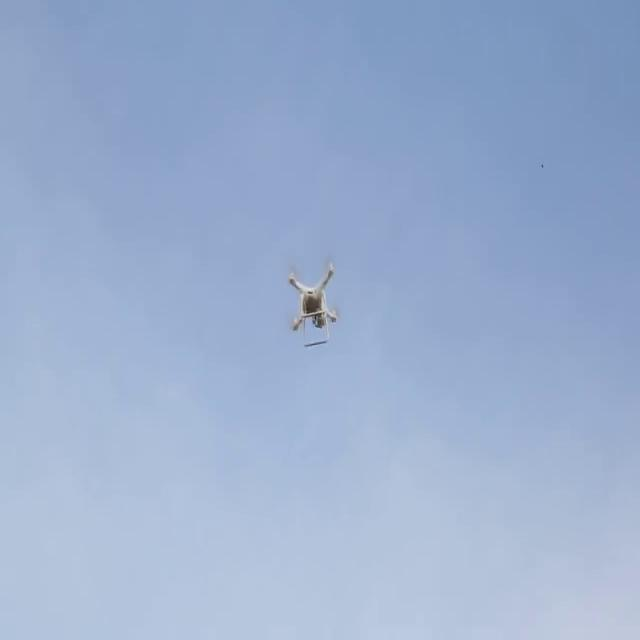drone: (282, 244, 344, 346)
